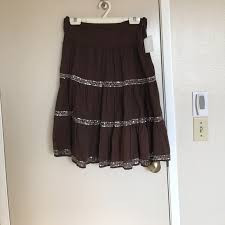C_skirt: (46, 11, 184, 174)
